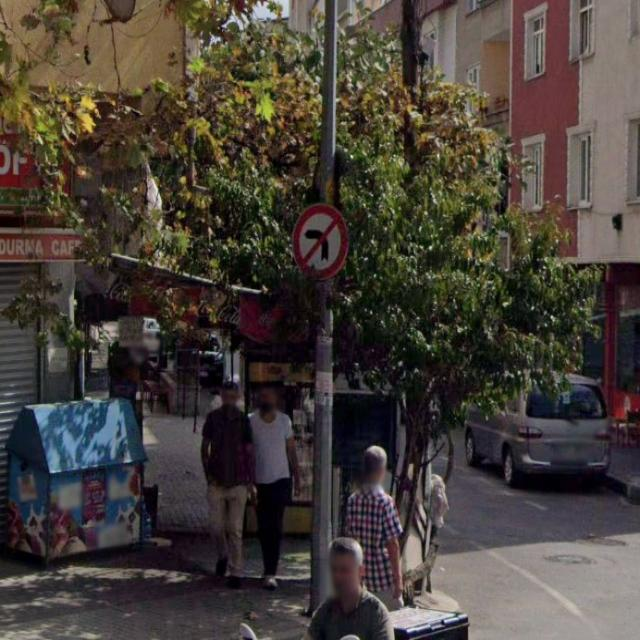soladonulmez: (292, 203, 348, 280)
